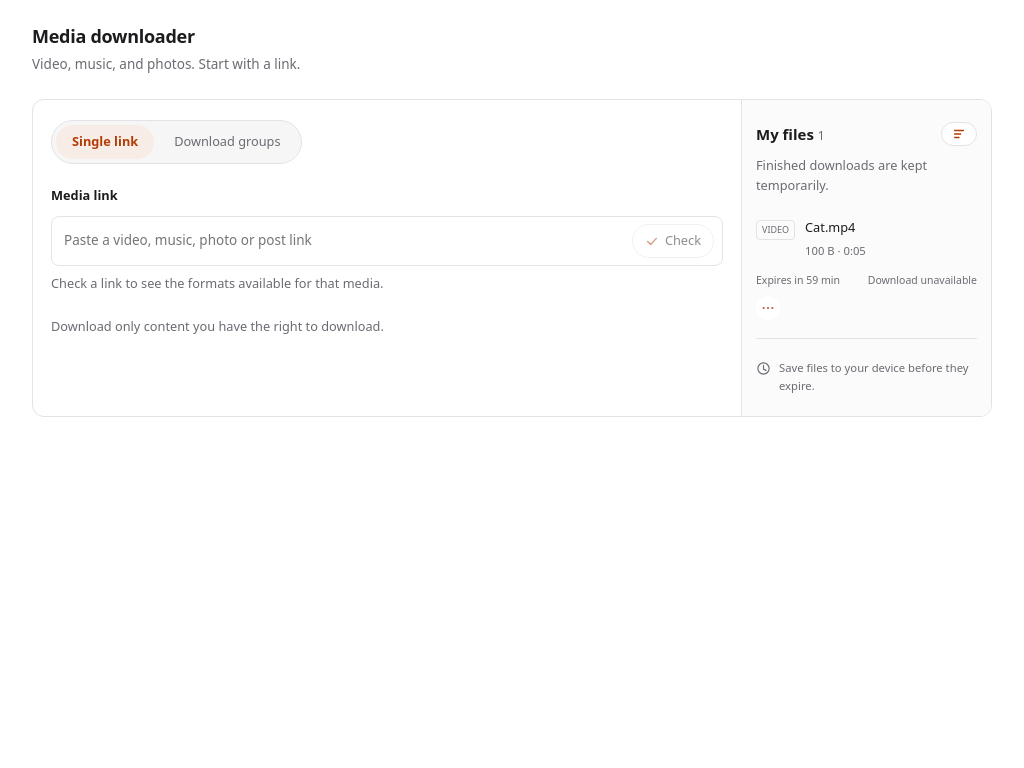
Test: MediaDownloaderView › deletes only after an Ember confirmation
Click the button named "File options for Cat.mp4". click: (768, 308)
box: [756,296,780,320]
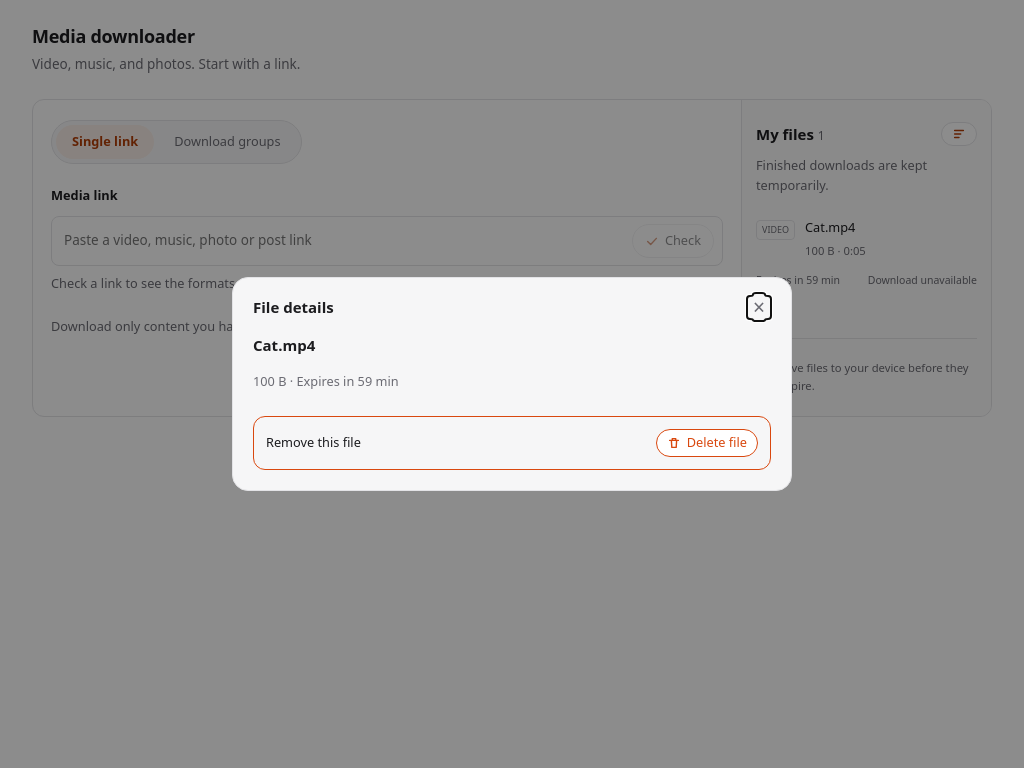
Click the button "Delete file". click: (707, 443)
box: [656,429,758,457]
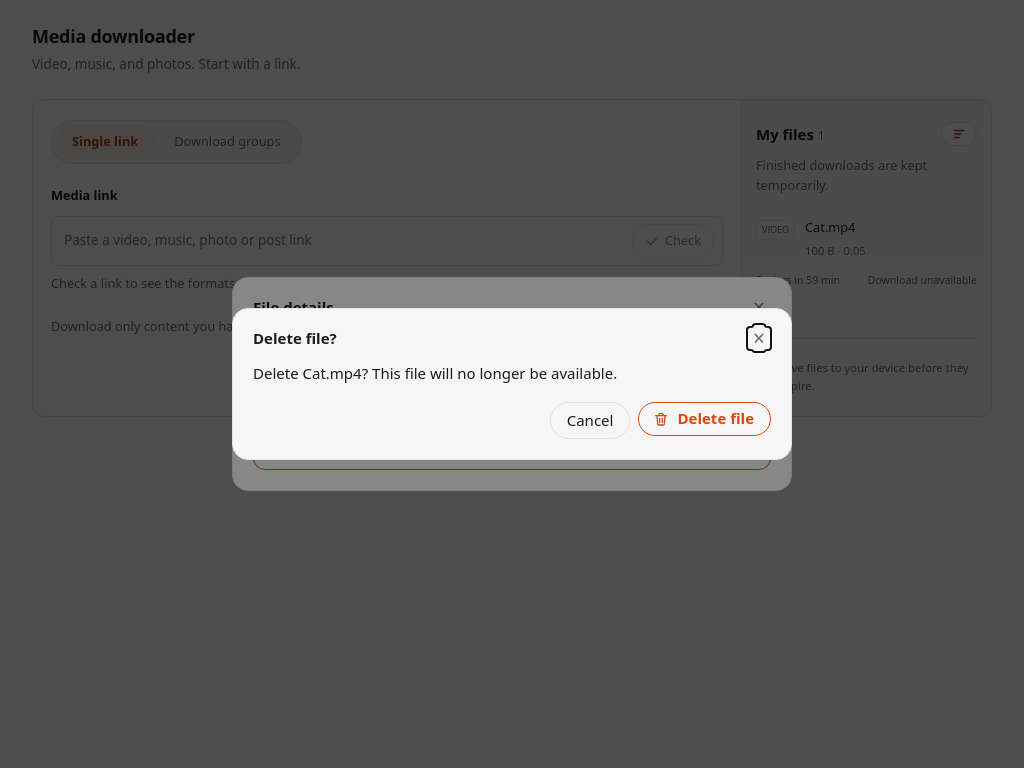
Click the button "D e l e t e f i l e". click: (705, 419)
box: [638,402,771,436]
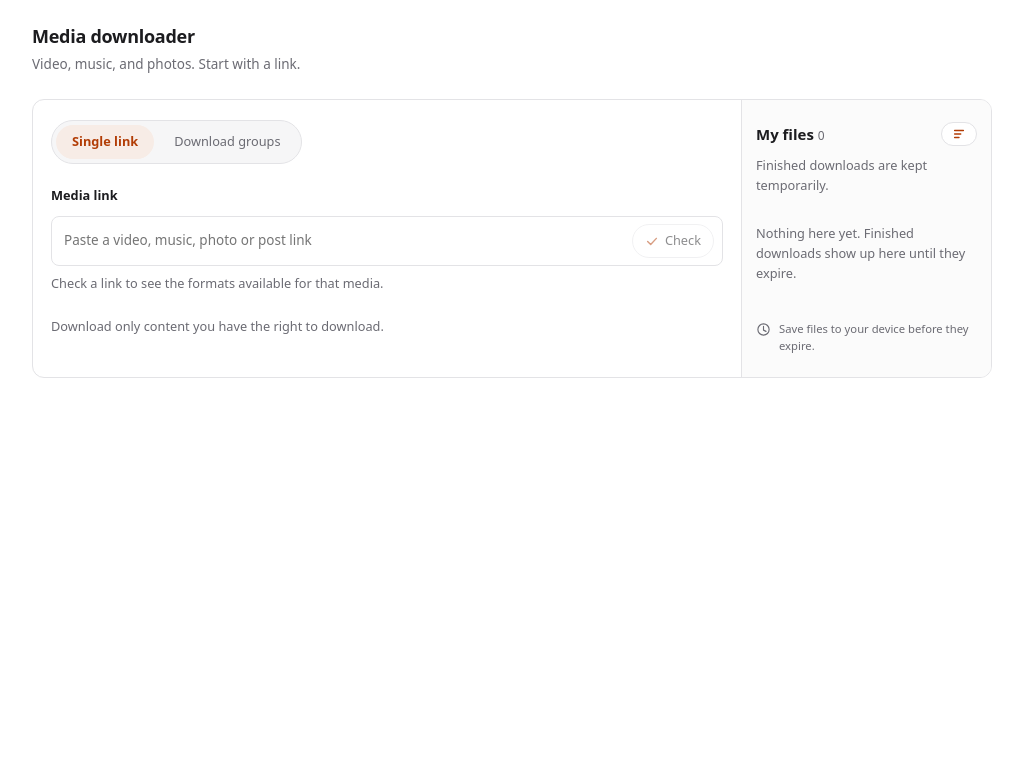
Result: the text "Nothing here yet" is shown at [756,224,965,282]
